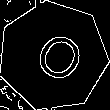O_SW: (22, 23, 85, 89)
